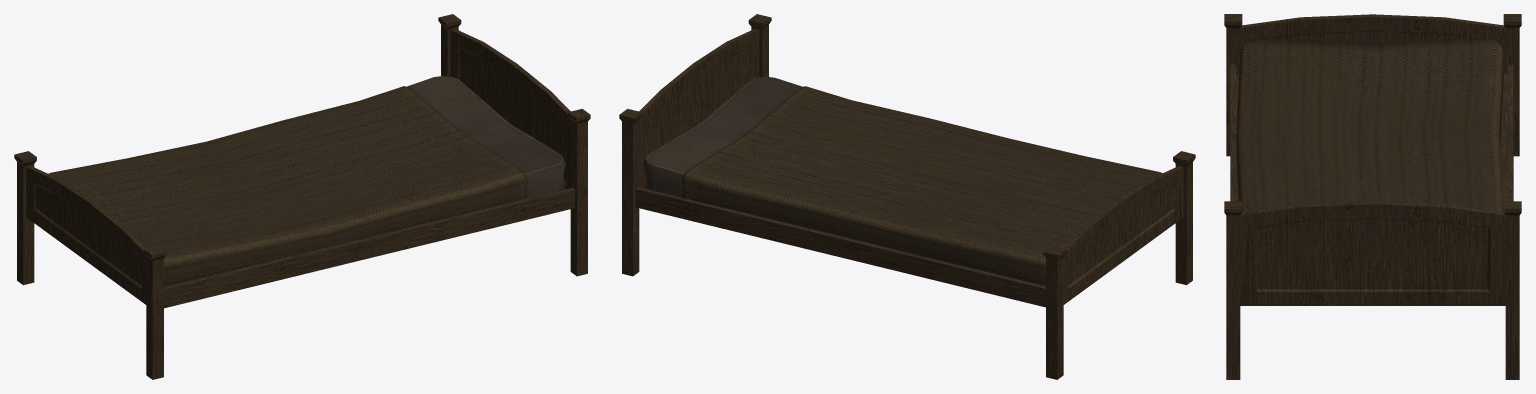
Rendered from bed_5_3.glb.
3 renders of one model, left to right at view 1: azimuth 30°, elevation 25°; view 2: azimuth 150°, elevation 25°; view 3: azimuth 270°, elevation 25°, orthographic. The views are drawn at different scales.
Parts seen in each view (by area): view 1: bed_5_3; view 2: bed_5_3; view 3: bed_5_3.
Part boxes in pixels (x1,y1,x2,y2): bed_5_3: [14, 14, 590, 379]; bed_5_3: [619, 14, 1195, 379]; bed_5_3: [1224, 14, 1521, 379].
Bounding box in the file's own units: 2.74 × 0.9621 × 1.49.
2 materials, 2 textured.
